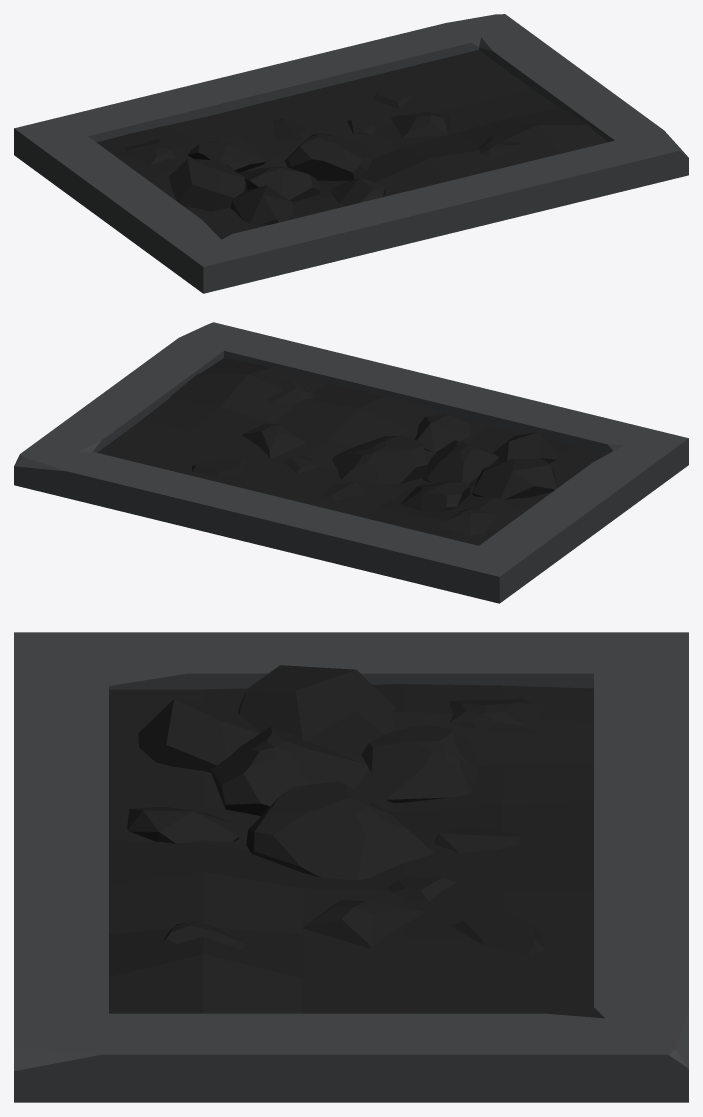
Rendered from diggableGrave.fbx.
The picture shows the model from 3 angles, top to bottom: view 1: azimuth 30°, elevation 25°; view 2: azimuth 150°, elevation 25°; view 3: azimuth 270°, elevation 25°; orthographic projection. The views are drawn at different scales.
Visible parts, largest first — view 1: DiggableGrave; view 2: DiggableGrave; view 3: DiggableGrave.
Boxes of the visible parts, <box> form: DiggableGrave: <box>14,14,688,293</box>; DiggableGrave: <box>14,322,688,603</box>; DiggableGrave: <box>14,632,688,1102</box>.
Size of the model in its own units: 2.9 by 0.39 by 1.96.
